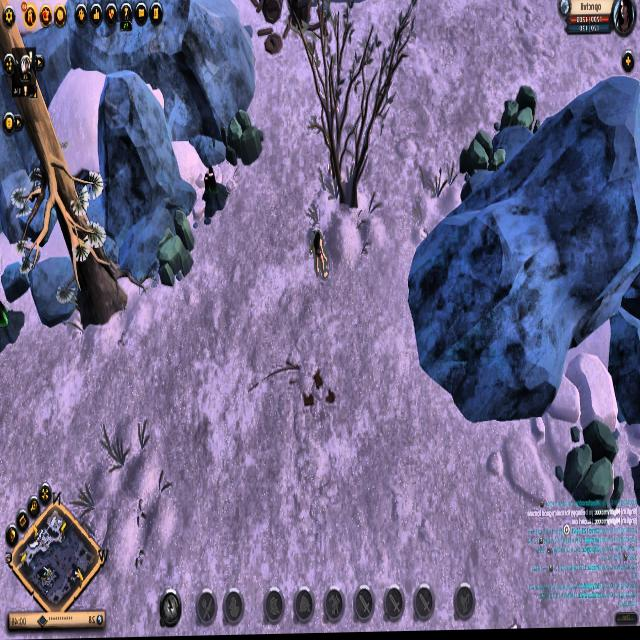sandstone: (559, 425, 625, 515), (215, 111, 267, 169), (492, 86, 542, 143), (154, 224, 196, 289), (453, 132, 508, 181)
tin_ore: (194, 172, 231, 216), (0, 296, 23, 351)
